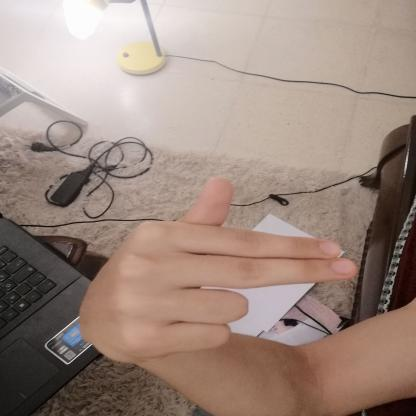GHAYN: (60, 168, 376, 378)
